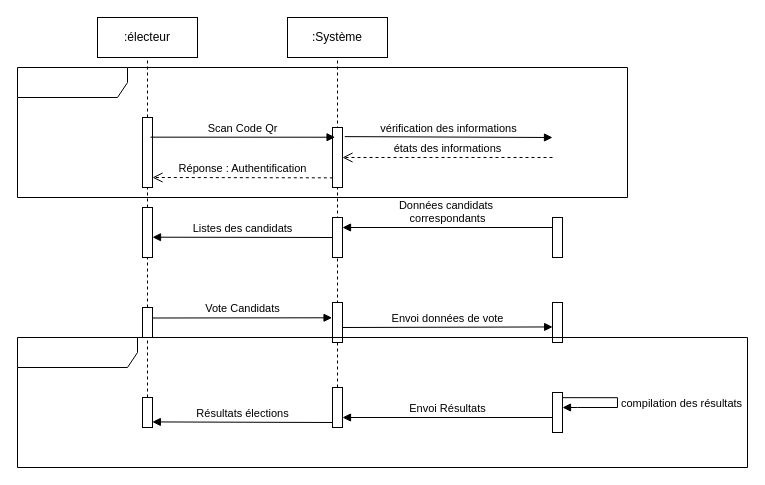
Some shapes in this 765 by 485 pixel diagram are drawn without their labels. Each missing label, with the centre of its shape:
Opt(codeQr non reconnu): the point at 322,132
Opt(élection en cours): the point at 382,402
